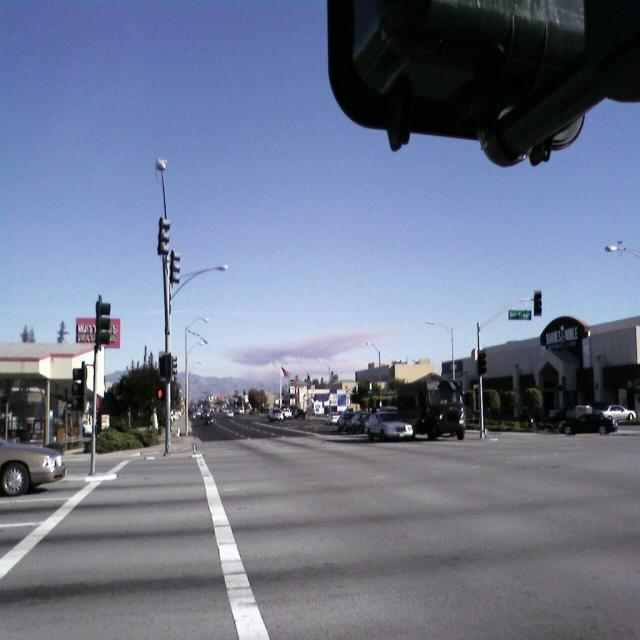off traffic light: (97, 294, 112, 347), (70, 360, 85, 412), (158, 217, 170, 254), (477, 347, 489, 378), (533, 289, 544, 319), (170, 250, 180, 282)
